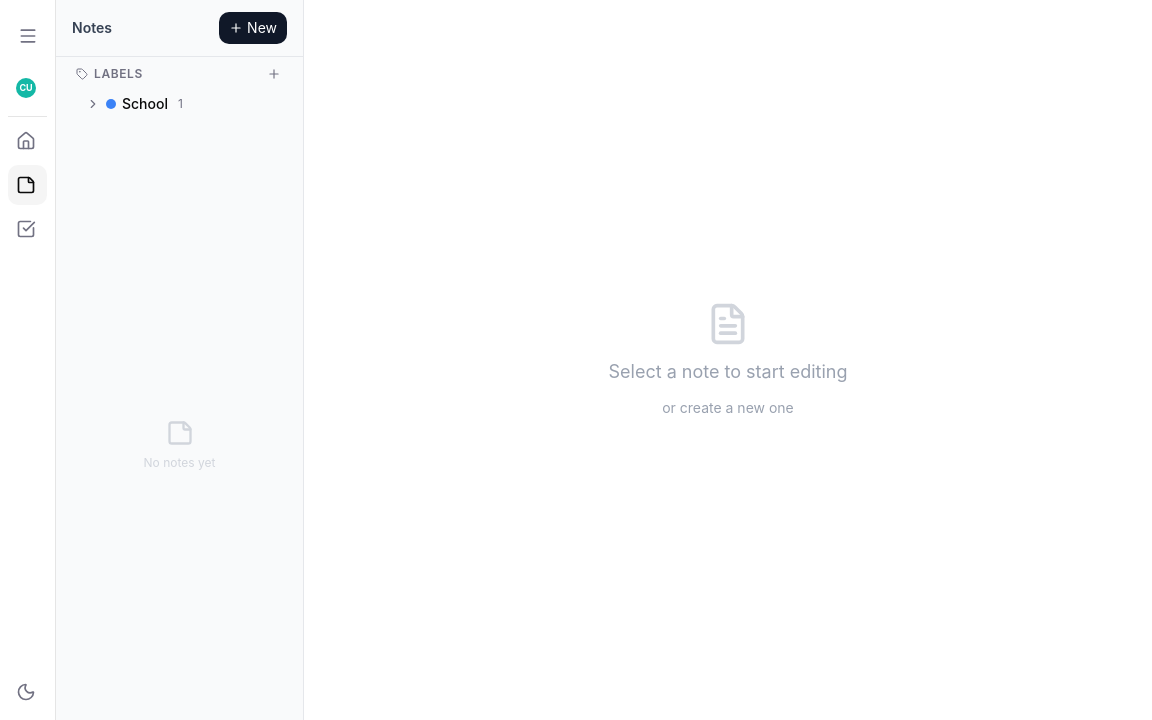
Test: Labels on Notes page › expands a label and shows its note
Click the button "School 1". click: click(156, 104)
box: [86,94,225,114]
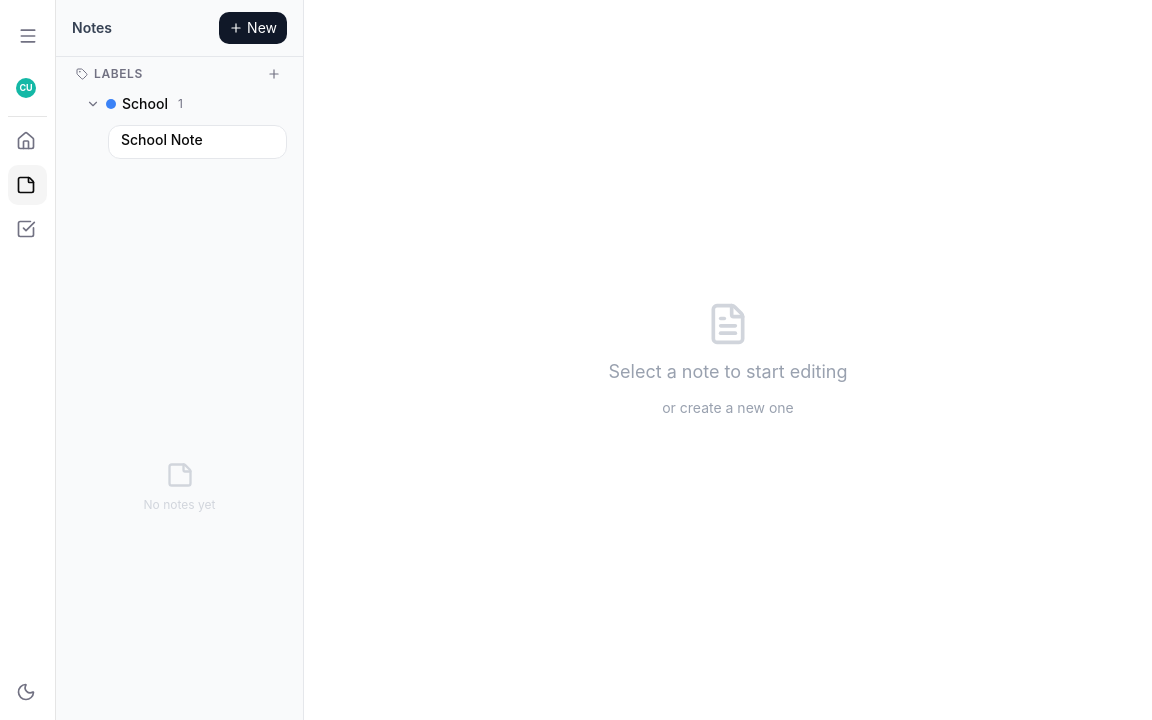
Expected: the heading "School Note" is shown, [121,131,203,148]
